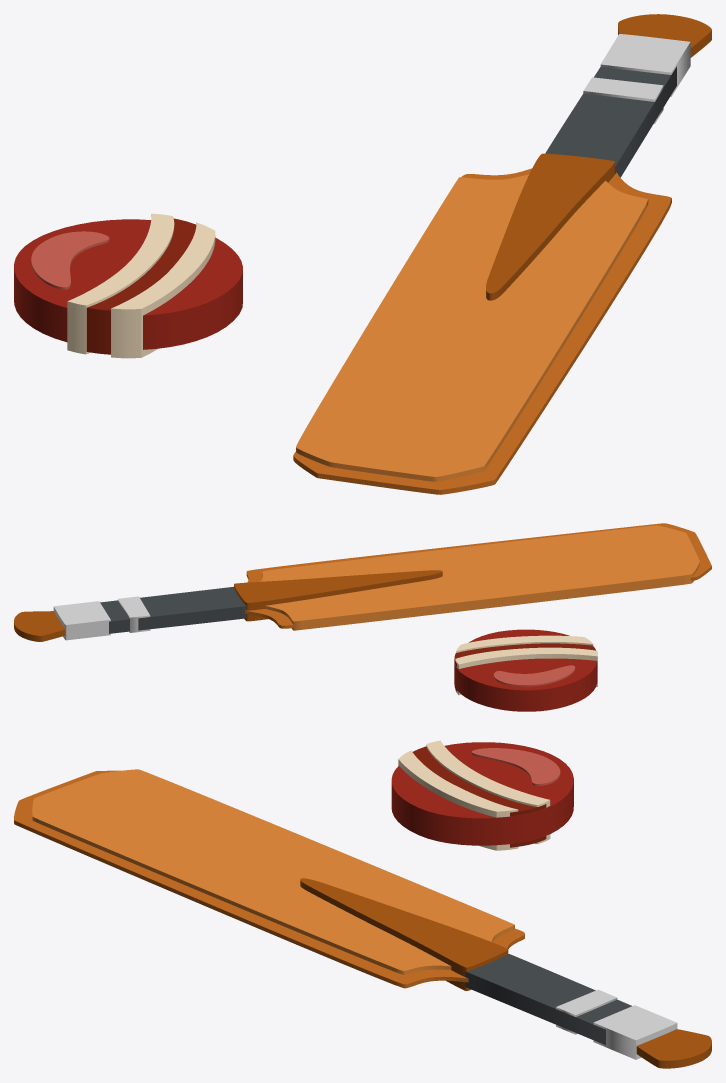
The model's file is emoji_u1f3cf.glb.
3 views of the same model, one above another, from view 1: azimuth 30°, elevation 25°; view 2: azimuth 150°, elevation 25°; view 3: azimuth 270°, elevation 25° (orthographic). The views are drawn at different scales.
Parts seen in each view (by area): view 1: emoji_u1f3cf; view 2: emoji_u1f3cf; view 3: emoji_u1f3cf.
Boxes of the visible parts, <box> form: emoji_u1f3cf: <box>14,14,711,494</box>; emoji_u1f3cf: <box>14,523,711,711</box>; emoji_u1f3cf: <box>14,740,711,1068</box>.
Bounding box in the file's own units: 0.0339 × 0.002 × 0.0324.
